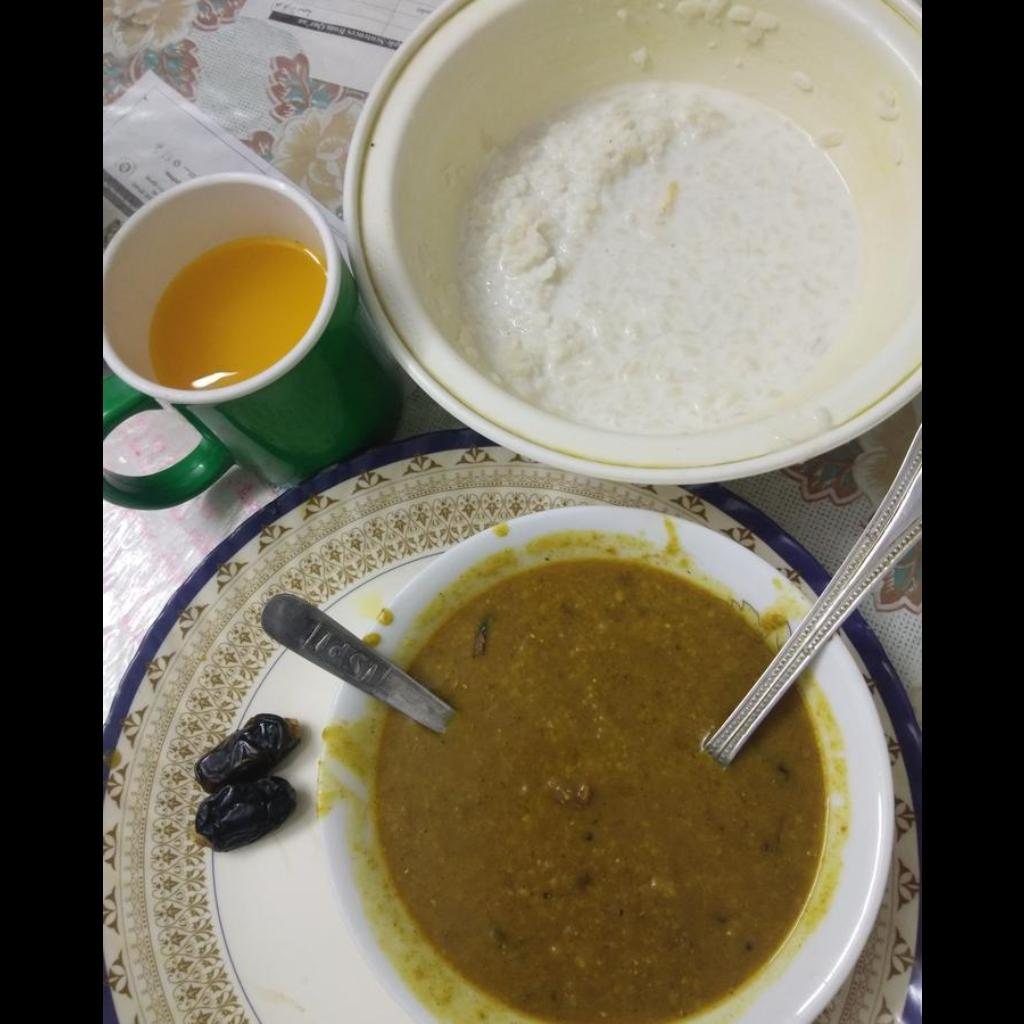daal: (384, 571, 814, 1022)
dates: (189, 715, 303, 857)
juice: (155, 248, 328, 379)
payesh: (456, 82, 856, 436)
